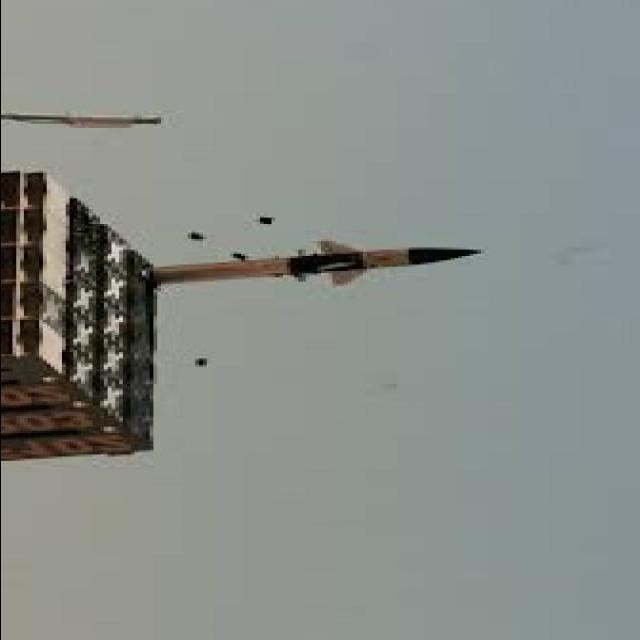Missile: (134, 229, 493, 296)
